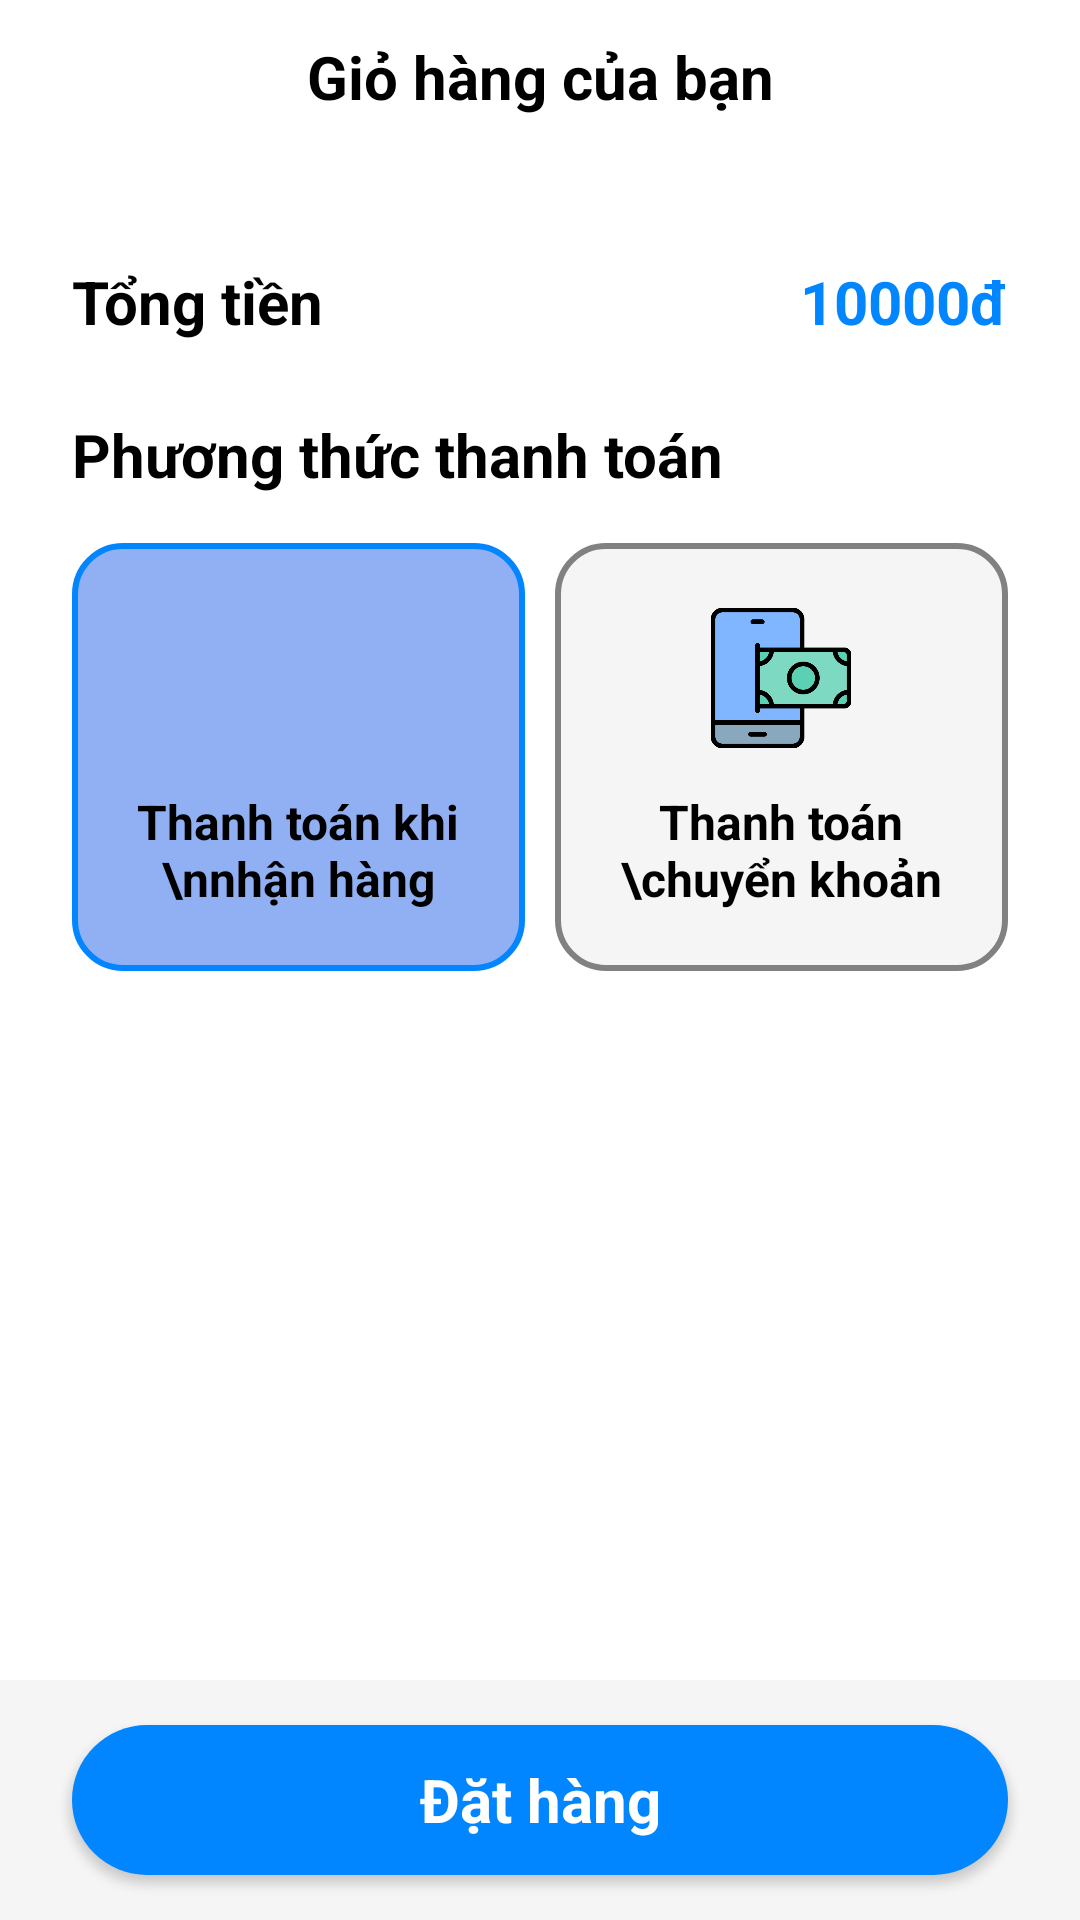

Point at icon controls on the screen. Image size 1080 × 1920, points as point (x, y).
payment: point (781, 678)
